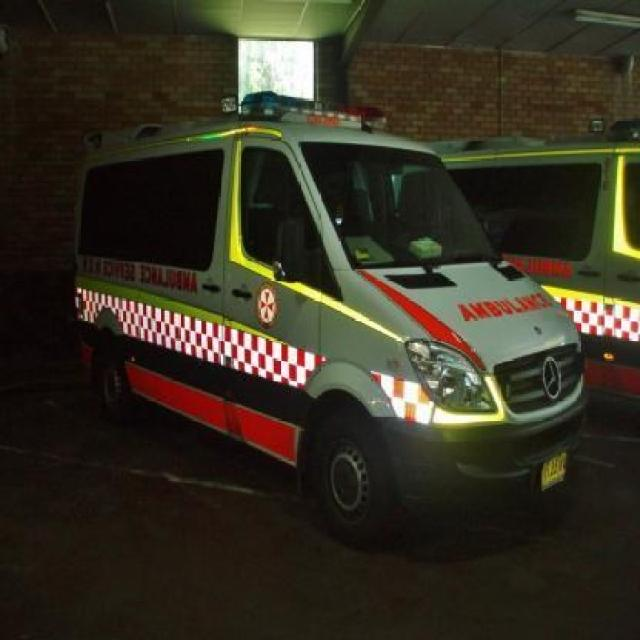Van: (121, 124, 496, 490), (530, 148, 634, 341)
